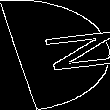N_W: (7, 30, 103, 80)
